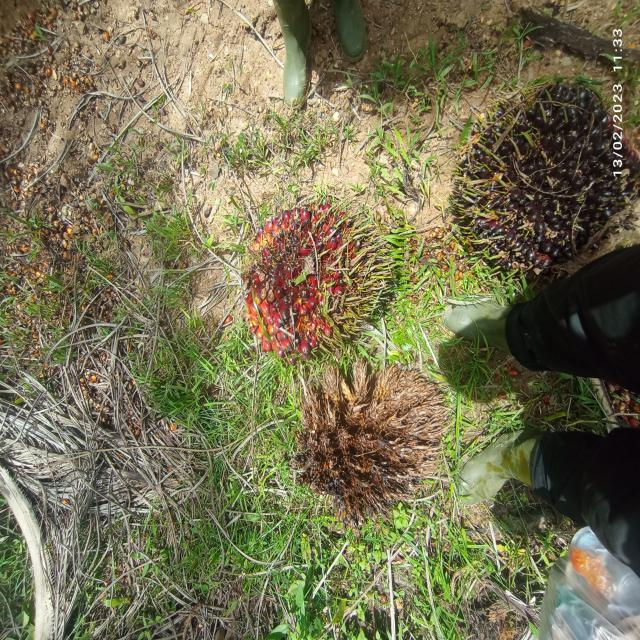fraksi 00: (429, 69, 639, 282)
fraksi 1: (239, 186, 408, 372)
